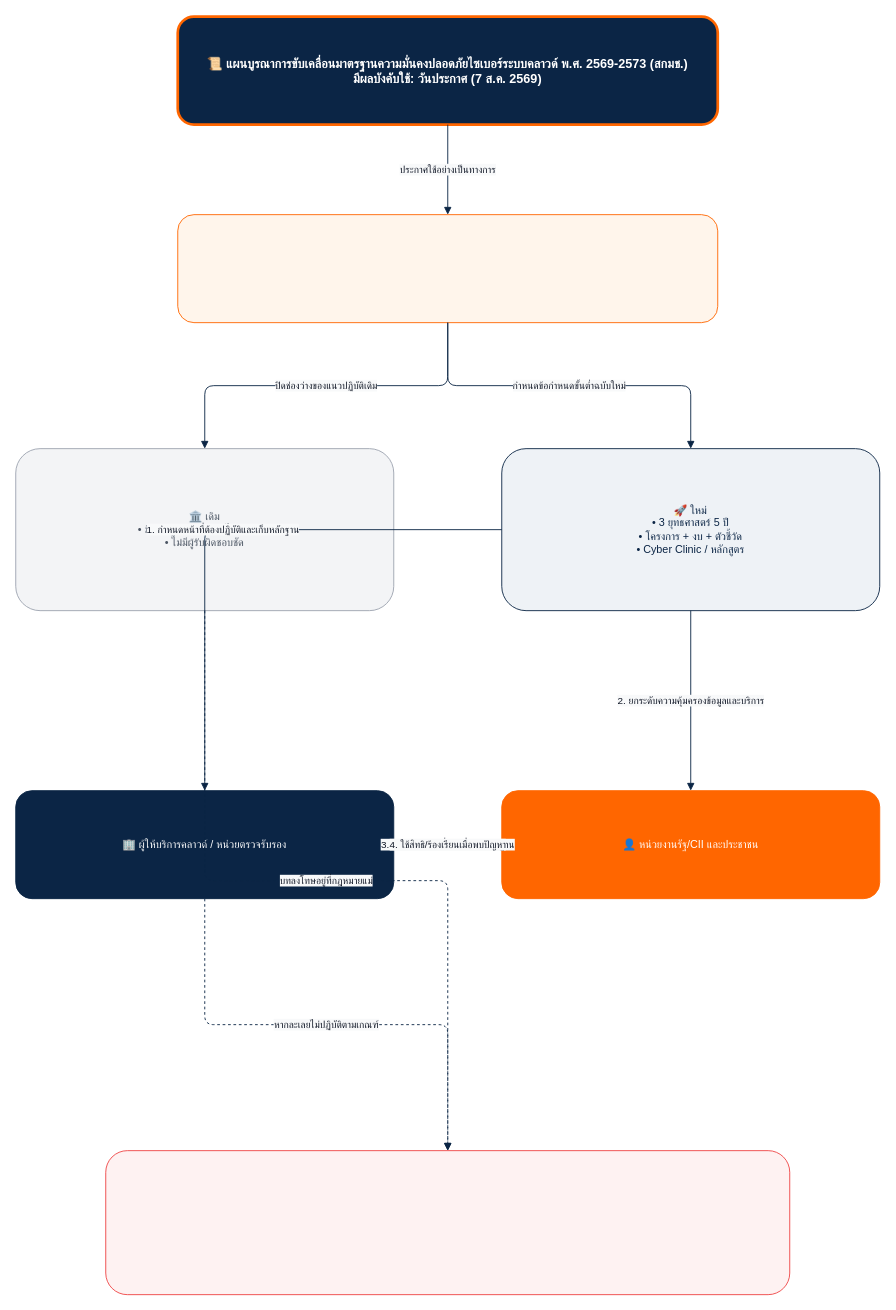
The diagram is 896 pixels wide and 1310 high, and some of its shapes have lost their labels. The centre of each missing label's shape, as x and y in pixels:
"แผน 5 ปี 3 ยุทธศาสตร์ เพื่อให้มาตรฐานคลาวด์ใช้ได้จริงทั้งประเทศ" belongs at (447,268).
"🚨 ไม่มีบทลงโทษ เป็นแผนแนวทาง แหล่งอ้างอิง: drive.ncsa.or.th" belongs at (447,1222).
